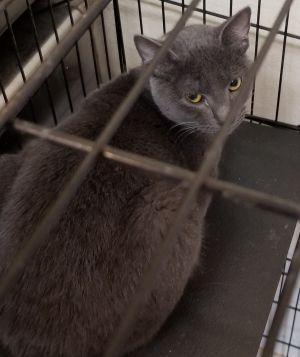rblue: (127, 2, 270, 157)
